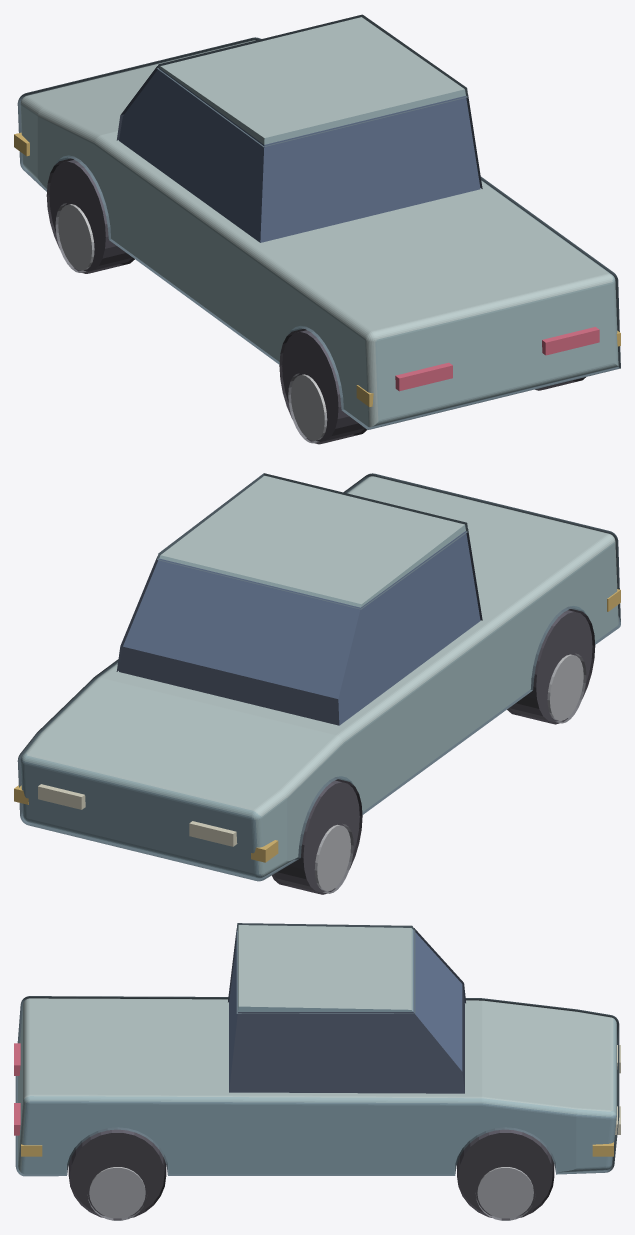
Rendered from traffic_pickup_1.glb.
3 renders of one model, top to bottom at view 1: azimuth 30°, elevation 25°; view 2: azimuth 150°, elevation 25°; view 3: azimuth 270°, elevation 25°, orthographic. The views are drawn at different scales.
Parts seen in each view (by area): view 1: car, blink; view 2: car, blink; view 3: car, blink.
Part boxes in pixels (<box>): car: <box>17,14,620,444</box>; blink: <box>14,132,620,406</box>; car: <box>17,473,620,894</box>; blink: <box>14,589,620,862</box>; car: <box>14,923,620,1220</box>; blink: <box>21,1142,613,1156</box>.
Bounding box in the file's own units: 2.15 × 1.9 × 5.16.
